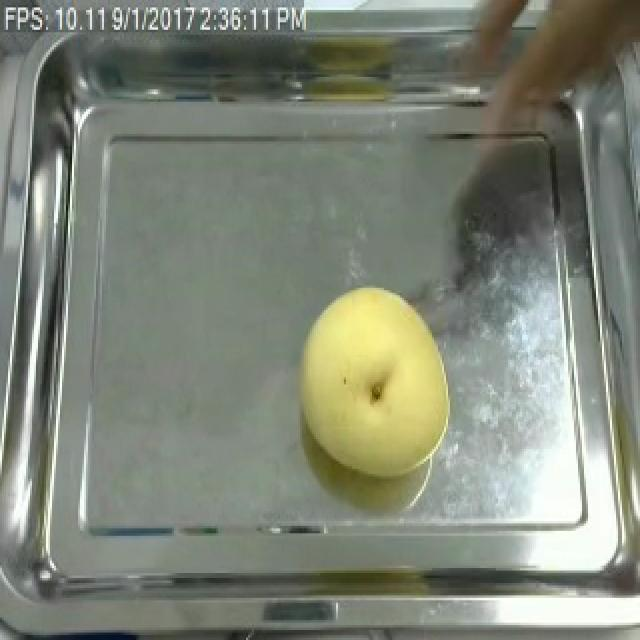Fruit: (288, 278, 460, 484)
